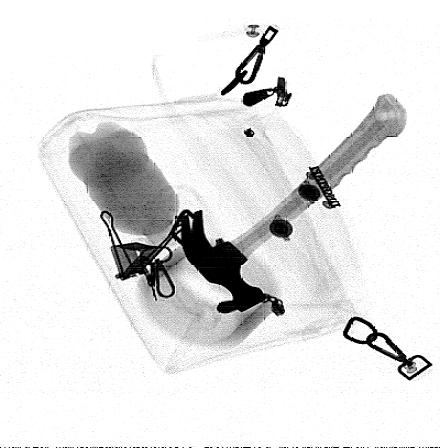Hammer: (180, 93, 408, 313)
